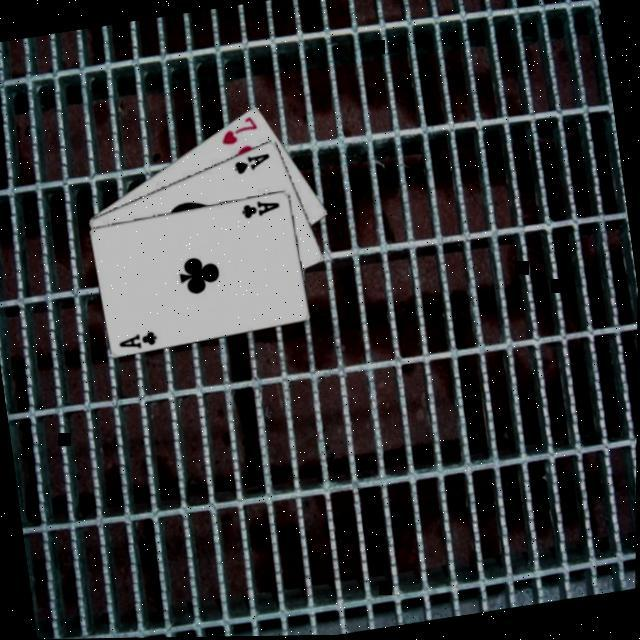7H: (215, 112, 261, 148)
AC: (238, 194, 283, 222), (115, 326, 160, 354)
AS: (230, 149, 274, 177)
